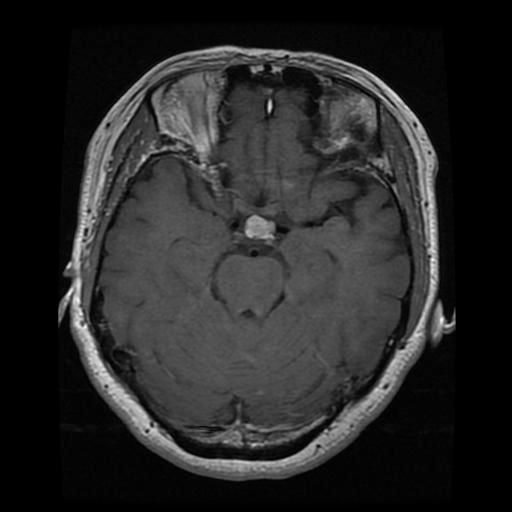Tumour-Pituitary: (230, 211, 286, 247)
